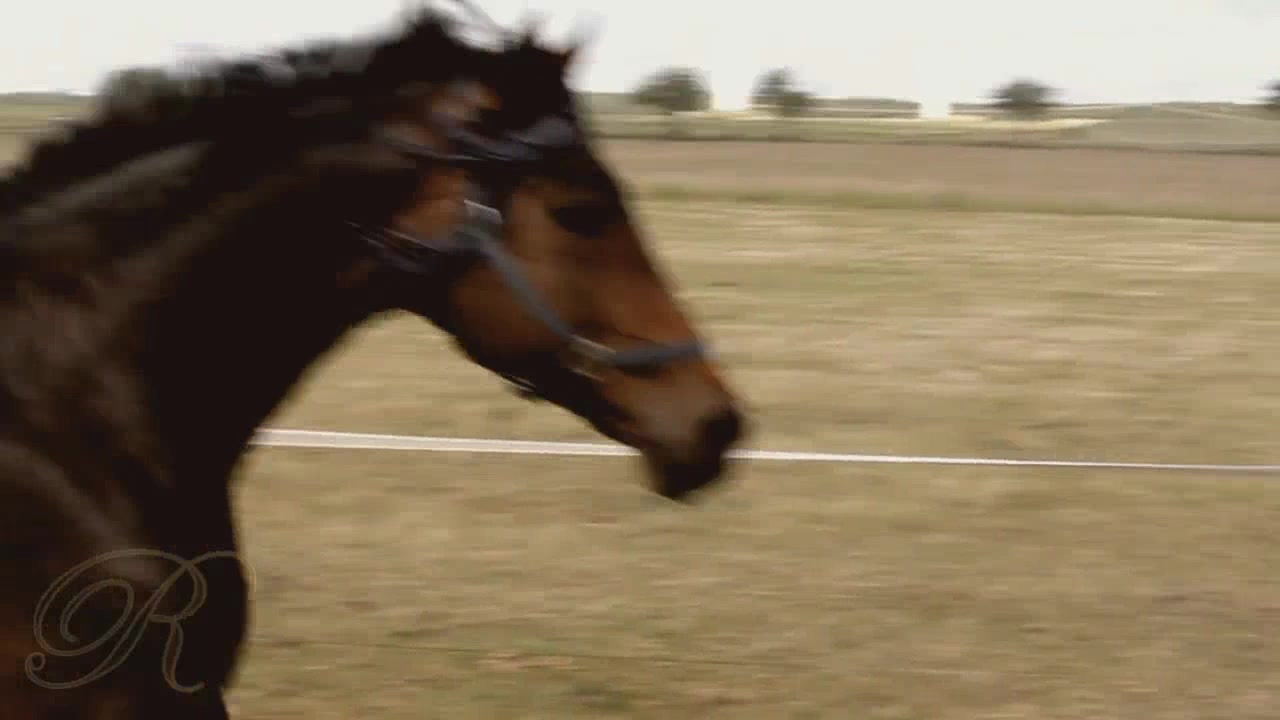horse: (1, 2, 752, 720)
